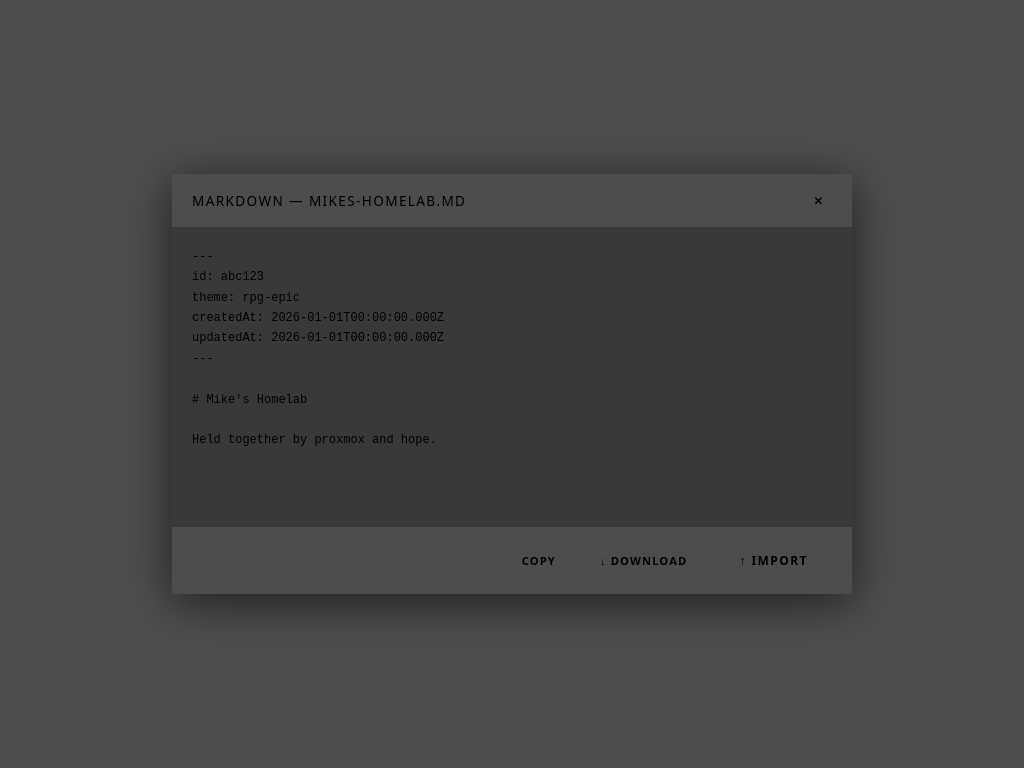
Test: <MarkdownPanel> › Copy button shows a Copied confirmation
Click the button "Copy" at (539, 561), box [506,541,572,580]
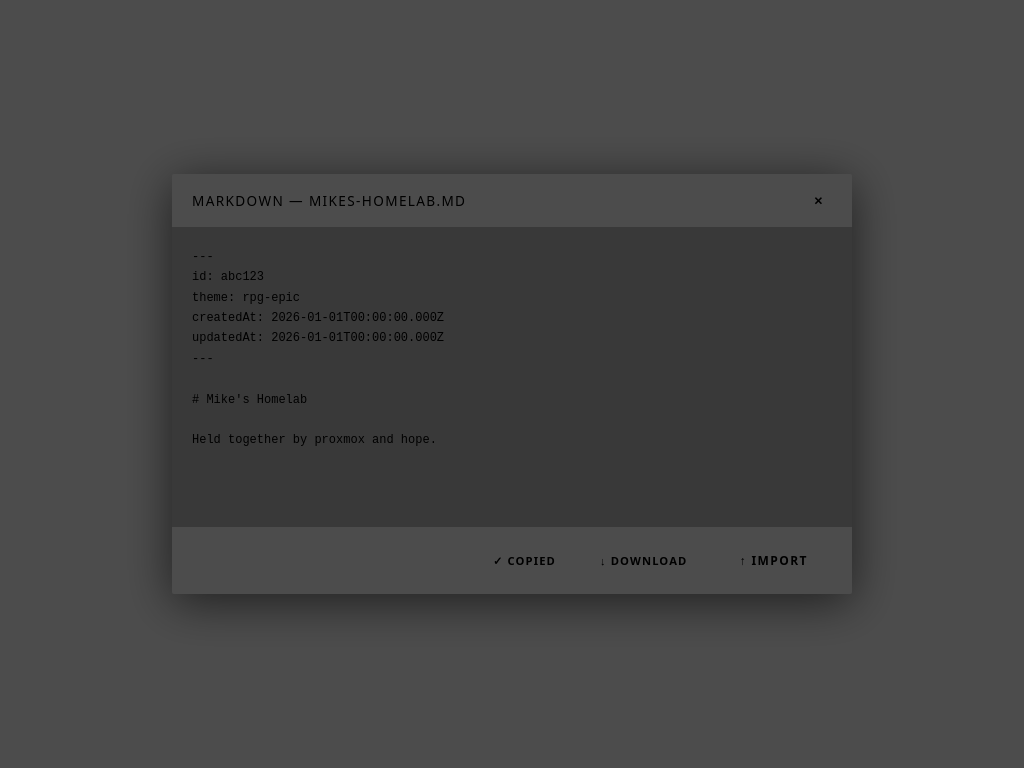
Expected: the button "✓ Copied" is shown, [477,541,572,580]
